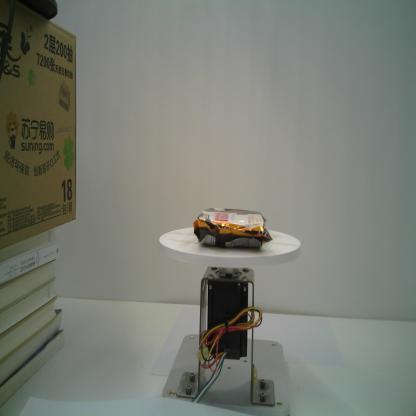Dessert: (190, 204, 274, 255)
